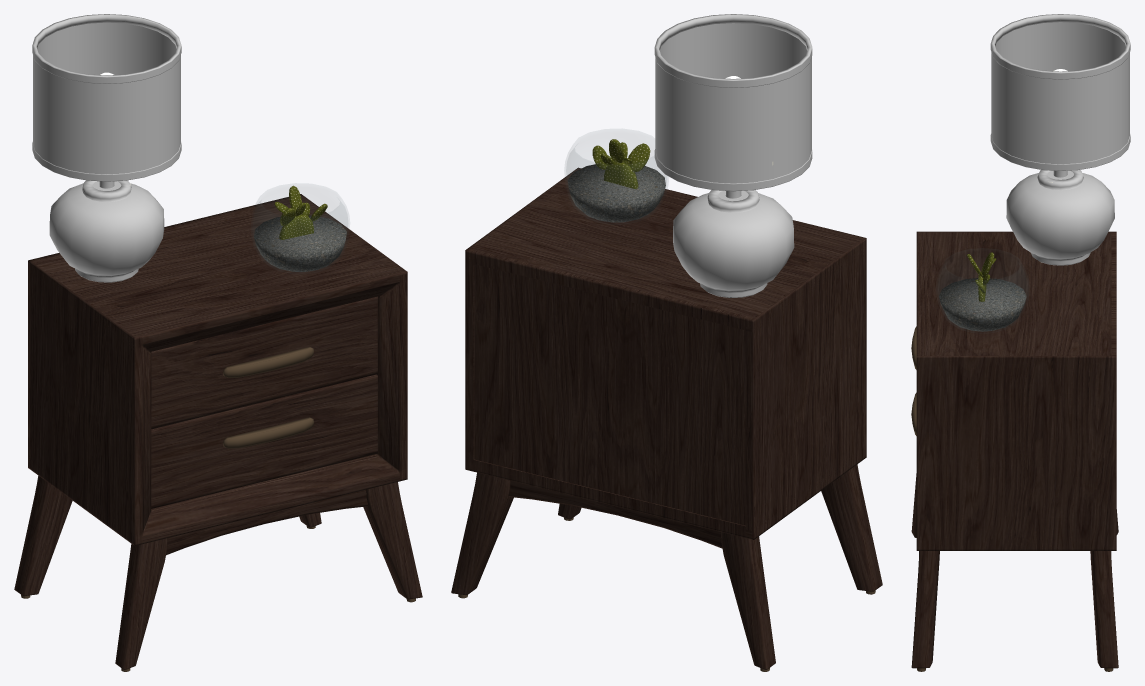
3 views of the same model, side by side, from view 1: azimuth 30°, elevation 25°; view 2: azimuth 150°, elevation 25°; view 3: azimuth 270°, elevation 25° (orthographic). The views are drawn at different scales.
Parts seen in each view (by area): view 1: Nightstand, Lamp, Vase; view 2: Nightstand, Lamp, Vase; view 3: Nightstand, Lamp, Vase.
Part boxes in pixels (x1,y1,x2,y2): Nightstand: [14, 194, 422, 671]; Lamp: [32, 14, 181, 282]; Vase: [252, 185, 348, 271]; Nightstand: [451, 167, 882, 671]; Lamp: [654, 14, 812, 297]; Vase: [566, 139, 667, 222]; Nightstand: [911, 231, 1118, 671]; Lamp: [990, 14, 1130, 265]; Vase: [937, 252, 1028, 331].
Size of the model in its own units: 56.01 by 98.86 by 37.68.
